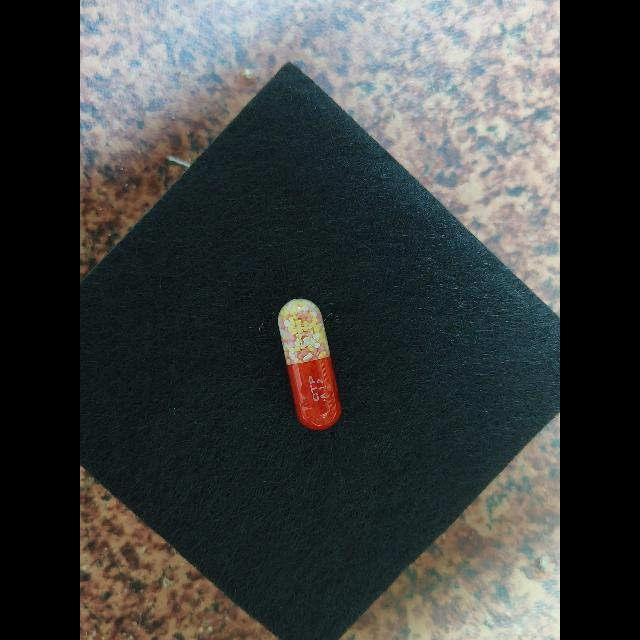Intact Capsule: (278, 298, 341, 430)
